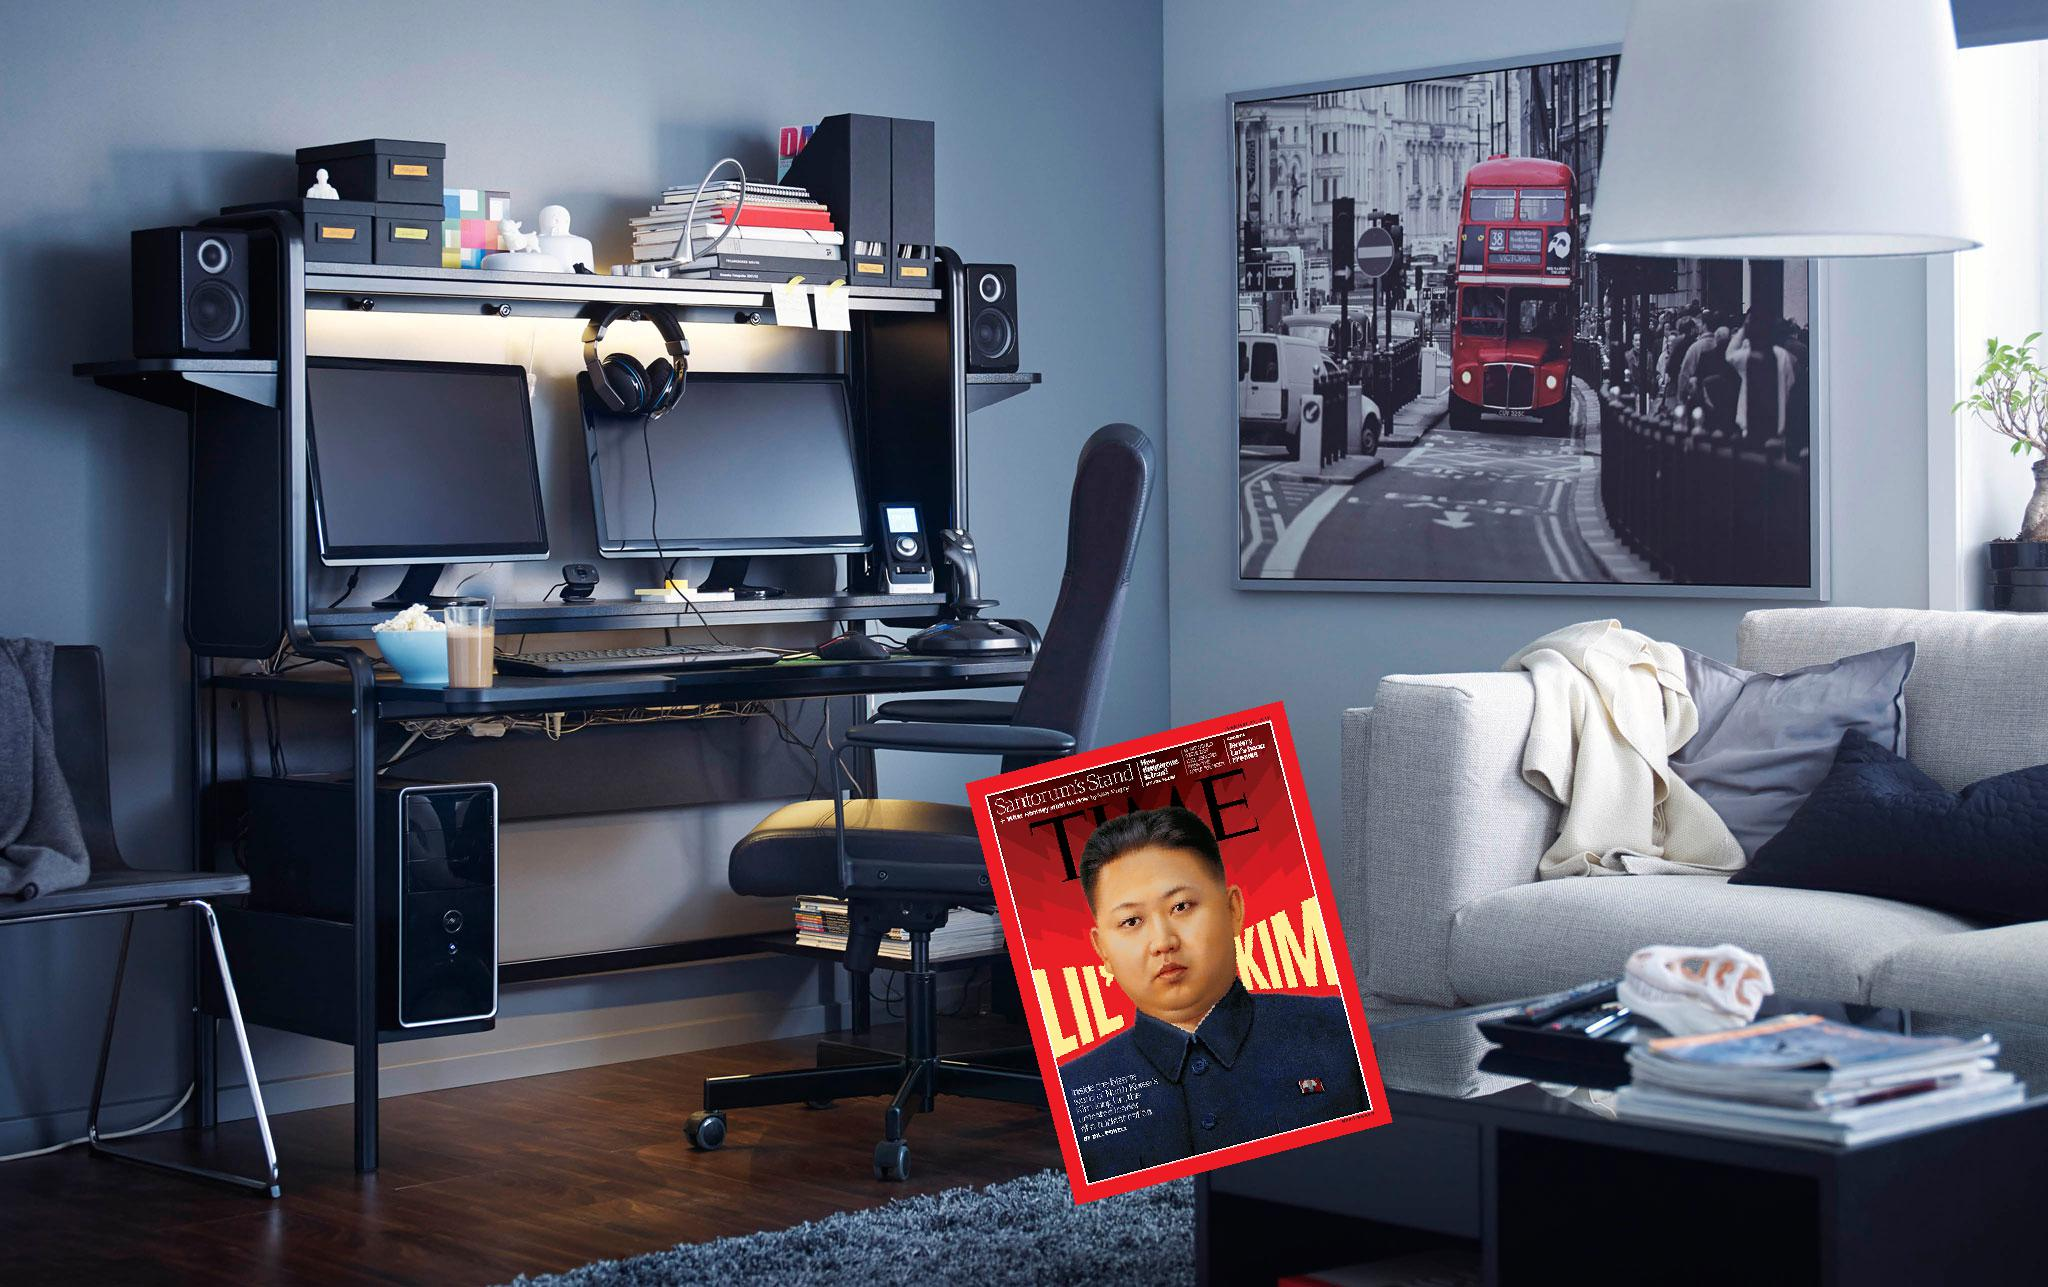times: (960, 698, 1392, 1208)
